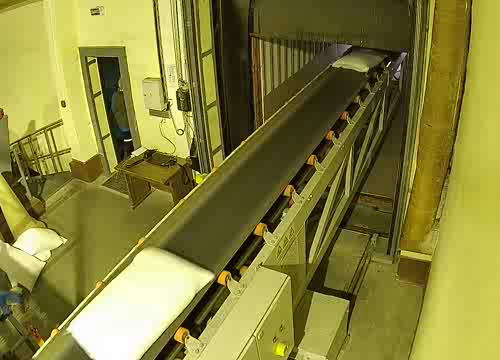bag: (66, 245, 215, 360), (330, 50, 389, 74)
